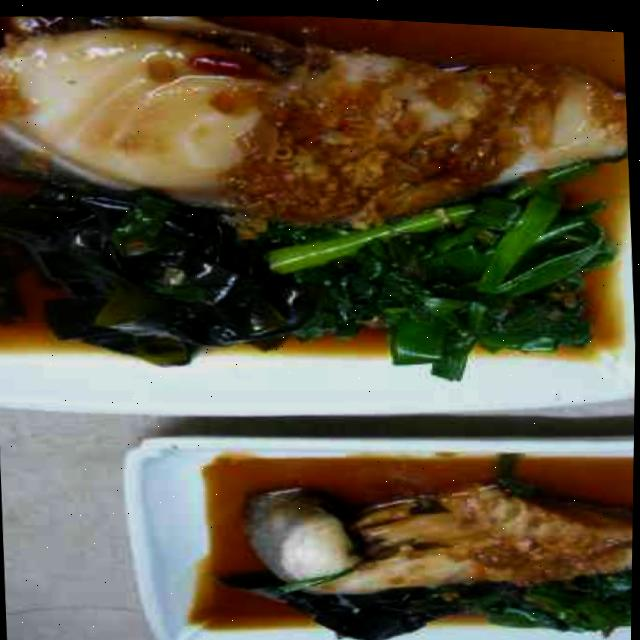熟制海鲜: (0, 0, 634, 272)
